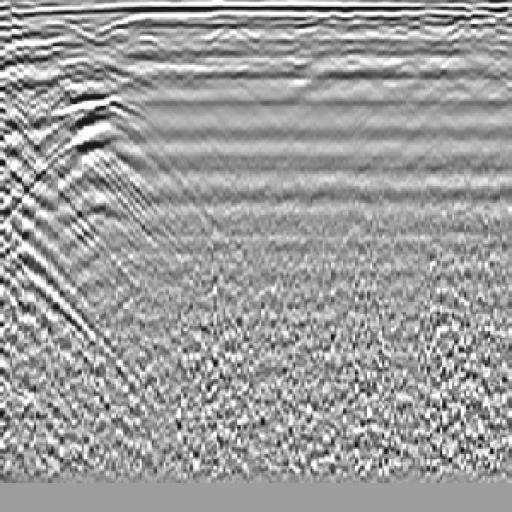metalic: (22, 87, 179, 303)
